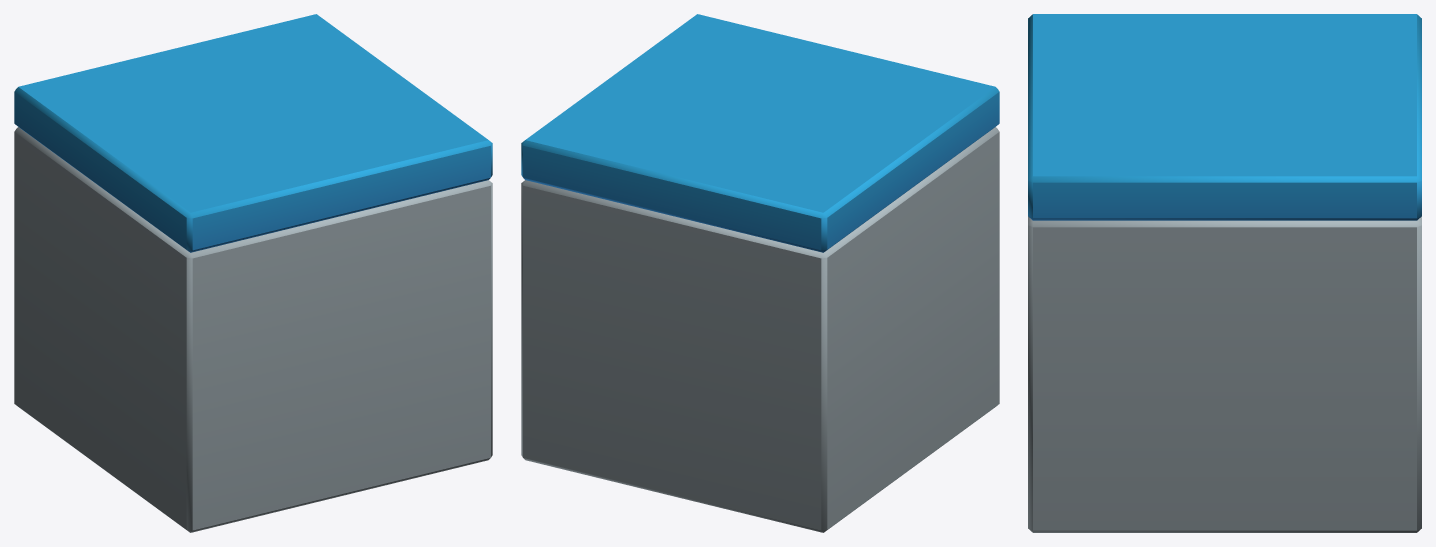
File: platform_4x4x4_blue.glb
The picture shows the model from 3 angles, left to right: view 1: azimuth 30°, elevation 25°; view 2: azimuth 150°, elevation 25°; view 3: azimuth 270°, elevation 25°; orthographic projection. The views are drawn at different scales.
Parts seen in each view (by area): view 1: platform_4x4x4_blue; view 2: platform_4x4x4_blue; view 3: platform_4x4x4_blue.
Boxes of the visible parts, left/top/right/bottom form: platform_4x4x4_blue: left=14, top=14, right=492, bottom=532; platform_4x4x4_blue: left=521, top=14, right=999, bottom=532; platform_4x4x4_blue: left=1028, top=14, right=1421, bottom=532.
Size of the model in its own units: 4 by 4 by 4.
1 material, 1 textured.
